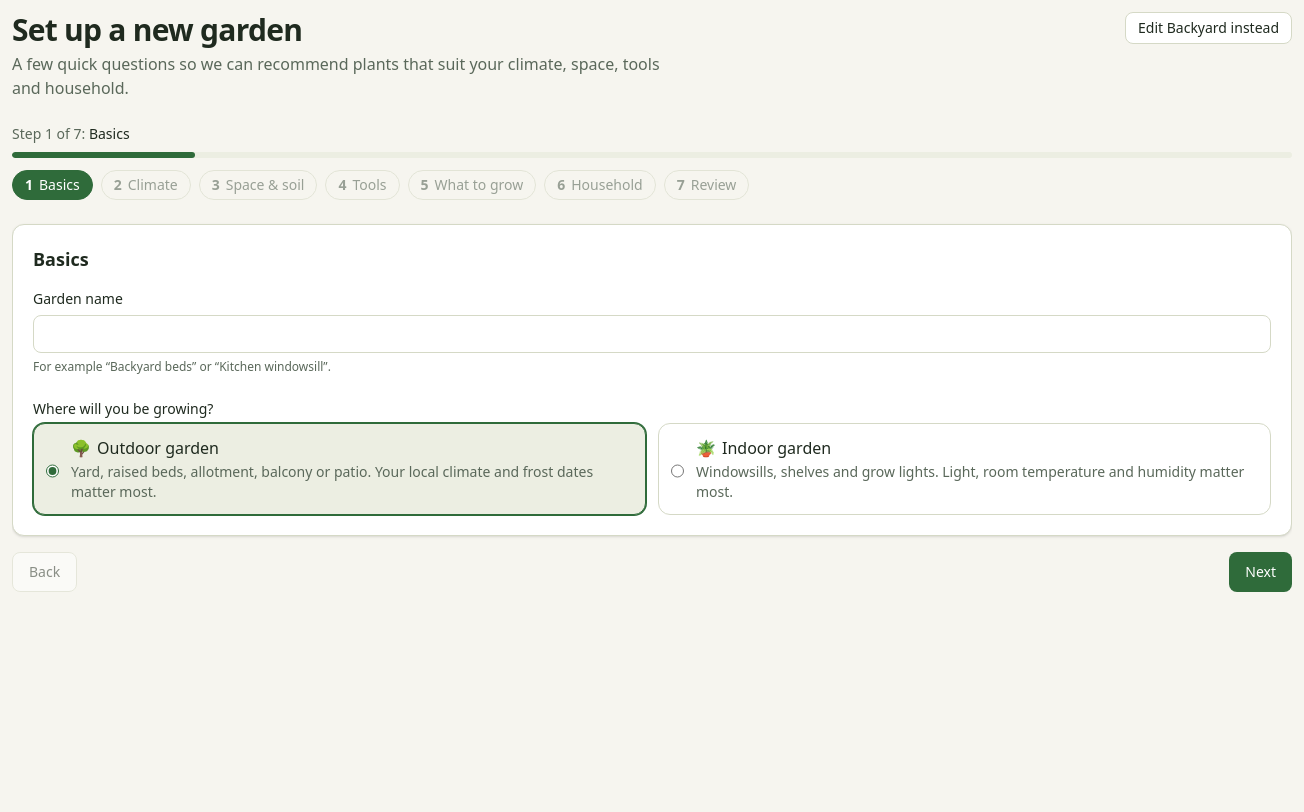
Test case: SetupWizard switching with unsaved input › also asks when leaving a half-filled new garden for the existing one
This screenshot has width=1304, height=812.
Type "Balcony" into the field labelled "Garden name" at (652, 334), box [33,315,1271,353]
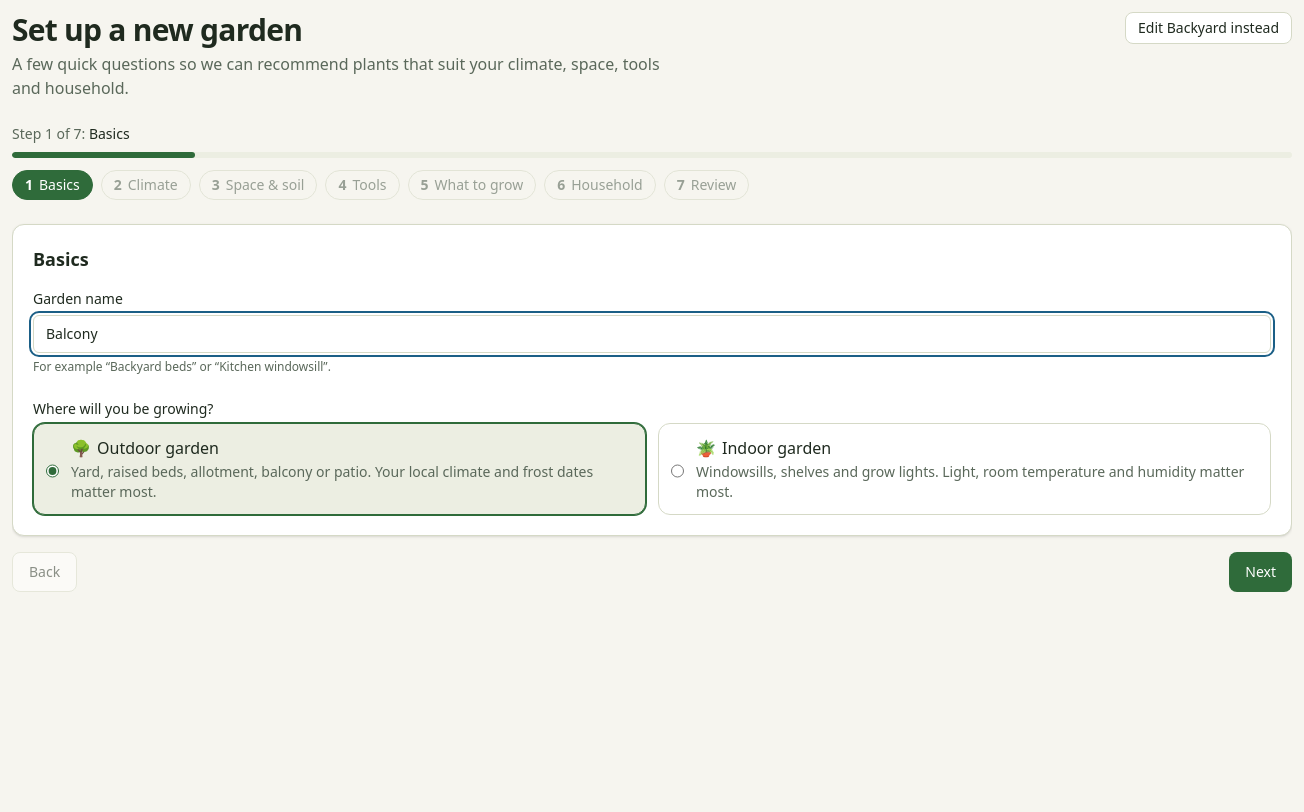
Click the button "Edit Backyard instead" at (1208, 28), box [1125,12,1292,44]
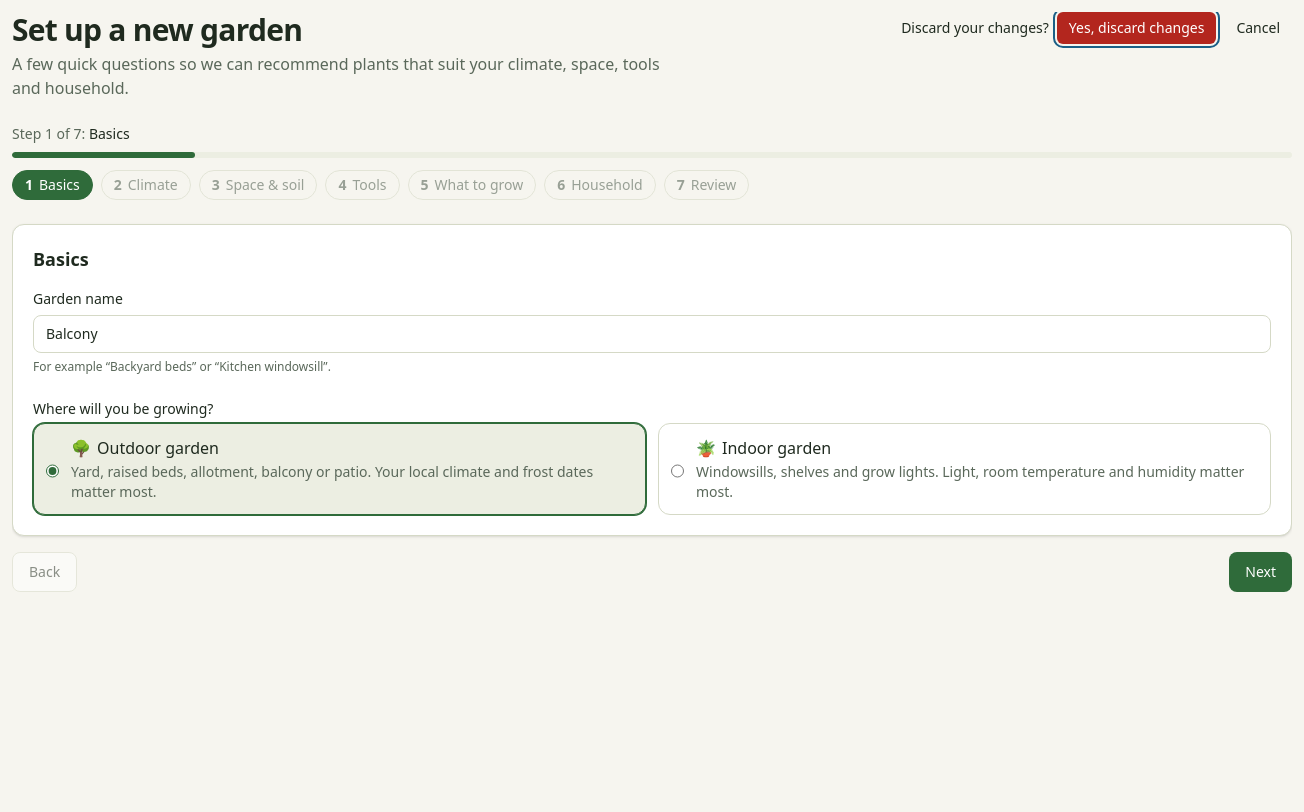
Expected: the element "Discard your changes? Yes, discard changes Cancel" is shown, [901,12,1292,44]
